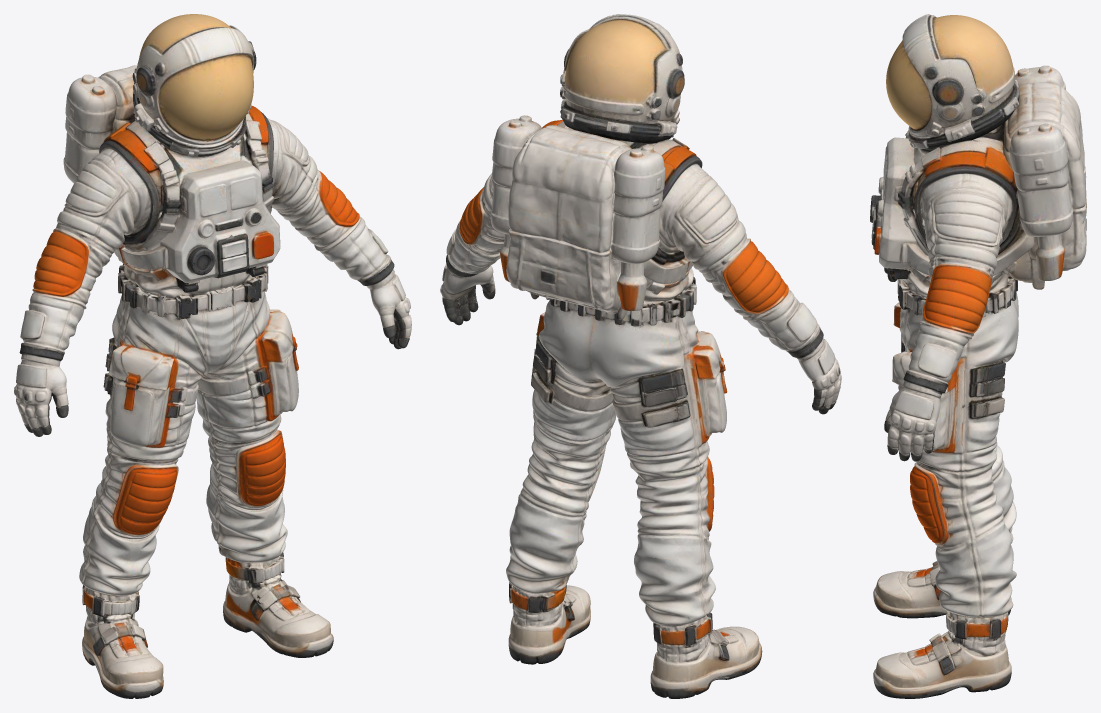
Rendered from astronaut-in-spacesuit-light.glb.
The picture shows the model from 3 angles, left to right: view 1: azimuth 30°, elevation 25°; view 2: azimuth 150°, elevation 25°; view 3: azimuth 270°, elevation 25°; orthographic projection.
Parts seen in each view (by area): view 1: astronaut-in-spacesuit; view 2: astronaut-in-spacesuit; view 3: astronaut-in-spacesuit.
Part boxes in pixels (left/top/right/bottom): astronaut-in-spacesuit: left=14, top=14, right=411, bottom=698; astronaut-in-spacesuit: left=440, top=14, right=841, bottom=698; astronaut-in-spacesuit: left=870, top=14, right=1086, bottom=698.
Bounding box in the file's own units: 1.22 × 1.9 × 0.5971.
Materials: 1 (1 with a texture image).
